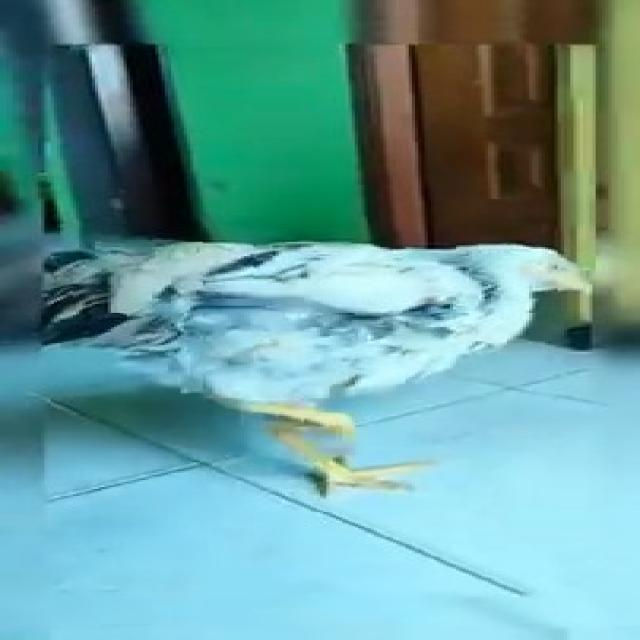leg stretching: (48, 208, 586, 505)
